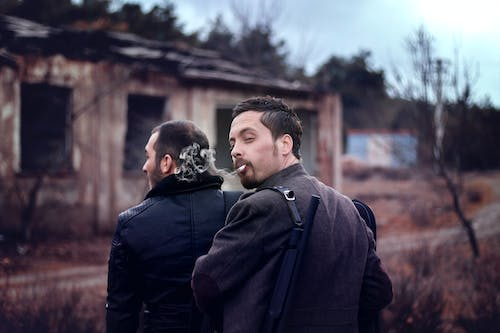cigarette: (235, 163, 247, 175)
gun: (251, 192, 323, 333)
